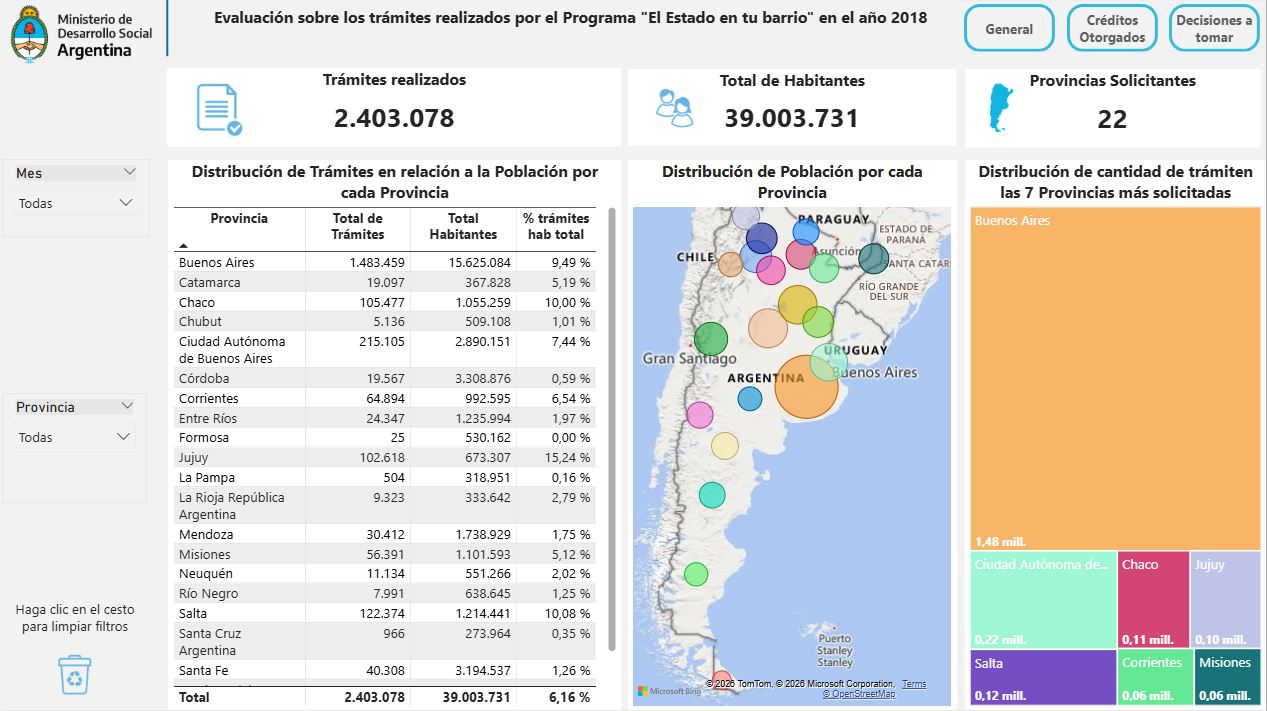

The page's visual inventory and layout, read from the dashboard file:
{"tool":"powerbi","page":{"name":"Trámites Realizados","canvas":[1280,720],"ordinal":2},"visuals":[{"type":"image","title":"Logo","box":[0,3.6,172.3,68.7],"z":0},{"type":"card","title":"Trámites realizados","fields":{"Values":["Medidas.Total de Trámites"]},"box":[172.6,72.6,458.3,78.6],"z":0,"group":"g4"},{"type":"group","id":"g1","title":"Grupo 1","box":[636.9,73.6,331,77.4],"z":0,"group":"g2"},{"type":"card","title":"Total de Habitantes","fields":{"Values":["Medidas.Total Habitantes"]},"box":[636.9,73.6,331,77.4],"z":0,"group":"g1"},{"type":"card","title":"Provincias Solicitantes","fields":{"Values":["Medidas.Cant. Pcias Solicitantes"]},"box":[976.2,73.8,297.6,78.6],"z":0,"group":"g3"},{"type":"actionButton","title":"Botón Navegación Créditos O","box":[1079.5,8.4,91.6,48.2],"z":1000},{"type":"image","box":[175.9,73.5,94,77.1],"z":1000,"group":"g4"},{"type":"image","box":[655.9,78.5,56,69],"z":1000,"group":"g2"},{"type":"image","box":[976.2,82.1,73.8,61.9],"z":1000,"group":"g3"},{"type":"actionButton","title":"Botón Navegación Decisiones a tomar","box":[1181.9,8.4,91.6,48.2],"z":2000},{"type":"actionButton","title":"Botón Navegación General","box":[975.9,8.4,91.6,48.2],"z":2500},{"type":"shape","title":"Separador Logo de Título","box":[145.8,3.6,53,56.6],"z":3000},{"type":"textbox","title":"Título","box":[186.7,4.8,785.5,56.6],"z":4000},{"type":"image","title":"Tachito","box":[50.6,647,57.8,73.5],"z":6000},{"type":"slicer","title":"Filtro Pcia","fields":{"Values":["Provincias.Provincia"]},"box":[6,399.9,146.4,110.7],"z":6250},{"type":"slicer","title":"Filtro Mes","fields":{"Values":["Tabla Calendario.Período.Variación.Jerarquía de fechas.Mes"]},"box":[6,164.3,148.8,78.6],"z":6500},{"type":"textbox","title":"Texto de tachito","box":[8.4,603.6,143.4,51.8],"z":9000},{"type":"treemap","title":"Distribución de  cantidad de  trámiten las 7 Provincias más solicitadas                              ","fields":{"Values":["Sum(Trámites Realizados.Total de Trámites)"],"Group":["Provincias.Provincia"]},"box":[976.2,165.5,303.6,554.8],"z":9500},{"type":"map","title":"Distribución de Población por cada Provincia","fields":{"Category":["Provincias.Provincia"],"Series":["Provincias.Densidad Poblacional"],"Size":["Sum(Provincias.Población)"]},"box":[636.9,165.2,331,554.8],"z":10000},{"type":"tableEx","title":"Distribución de Trámites en relación a la Población por cada Provincia","fields":{"Values":["Provincias.Provincia","Medidas.Total de Trámites","Medidas.Total Habitantes","Medidas.% trámites s/ habi total"]},"box":[173.8,165.2,457.1,554.8],"z":11000},{"type":"group","id":"g2","title":"Indicador Total Habitantes","box":[636.9,73.6,331,77.4],"z":13000},{"type":"group","id":"g3","title":"Indicador Pcias Solicitantes","box":[976.2,73.8,297.6,78.6],"z":14000},{"type":"group","id":"g4","title":"Indicador Trámites realozados","box":[172.6,72.6,458.3,78.6],"z":15000}]}

Visuals, with their boxes in screenshot pixels (x1, y1, x2, y2), scaled from the page's 1280x720 canvas onto the 1268x711 screenshot:
"Logo" image: region(0, 4, 171, 71)
"Trámites realizados" card: region(171, 72, 625, 149)
"Grupo 1" group: region(631, 73, 959, 149)
"Total de Habitantes" card: region(631, 73, 959, 149)
"Provincias Solicitantes" card: region(967, 73, 1262, 150)
"Botón Navegación Créditos O" actionButton: region(1069, 8, 1160, 56)
image: region(174, 73, 267, 149)
image: region(650, 78, 705, 146)
image: region(967, 81, 1040, 142)
"Botón Navegación Decisiones a tomar" actionButton: region(1171, 8, 1262, 56)
"Botón Navegación General" actionButton: region(967, 8, 1057, 56)
"Separador Logo de Título" shape: region(144, 4, 197, 59)
"Título" textbox: region(185, 5, 963, 61)
"Tachito" image: region(50, 639, 107, 710)
"Filtro Pcia" slicer: region(6, 395, 151, 504)
"Filtro Mes" slicer: region(6, 162, 153, 240)
"Texto de tachito" textbox: region(8, 596, 150, 647)
"Distribución de  cantidad de  trámiten las 7 Provincias más solicitadas                              " treemap: region(967, 163, 1267, 710)
"Distribución de Población por cada Provincia" map: region(631, 163, 959, 710)
"Distribución de Trámites en relación a la Población por cada Provincia" tableEx: region(172, 163, 625, 710)
"Indicador Total Habitantes" group: region(631, 73, 959, 149)
"Indicador Pcias Solicitantes" group: region(967, 73, 1262, 150)
"Indicador Trámites realozados" group: region(171, 72, 625, 149)
